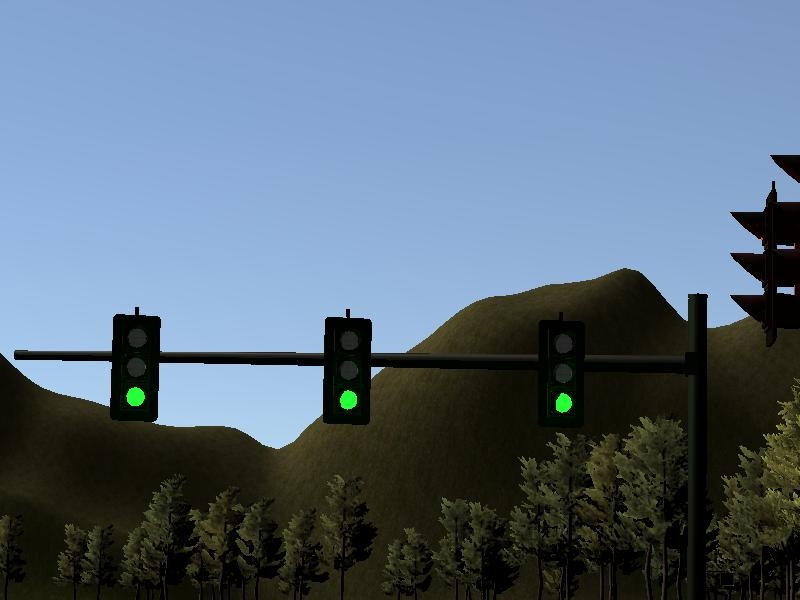GREEN: (317, 310, 376, 431), (107, 309, 162, 427), (535, 313, 587, 426)
